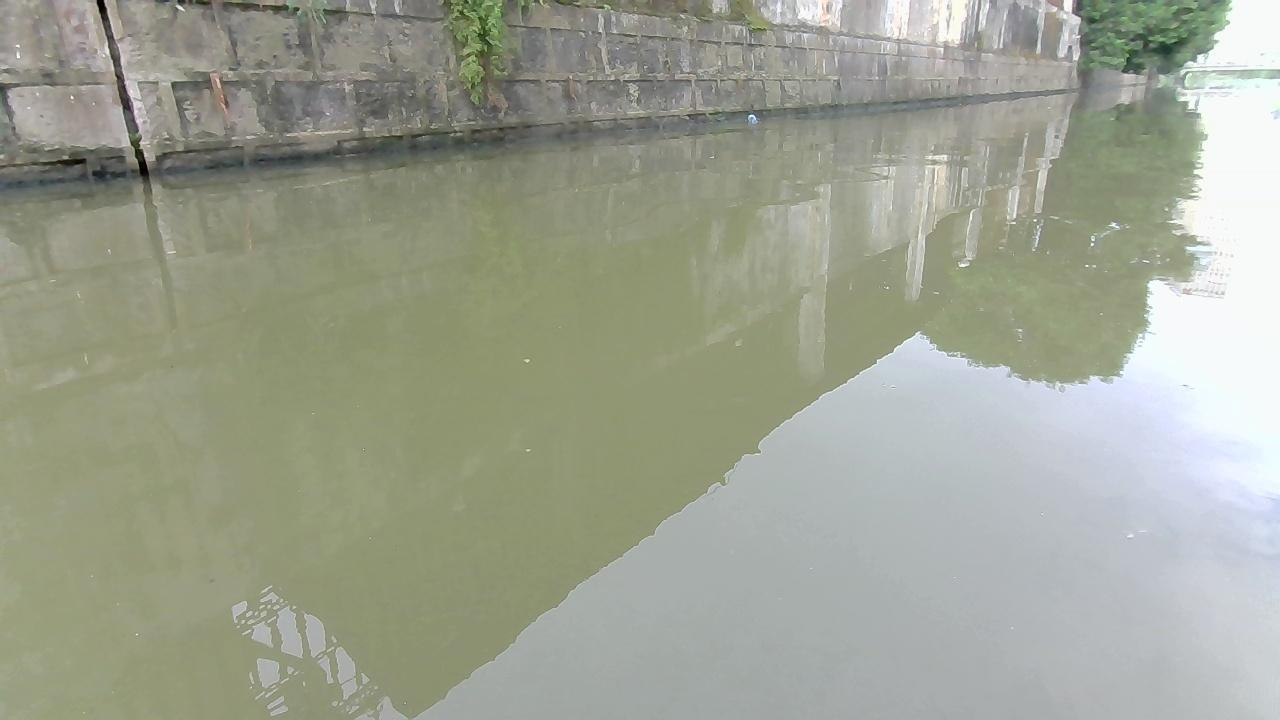bottle: (746, 112, 757, 123)
